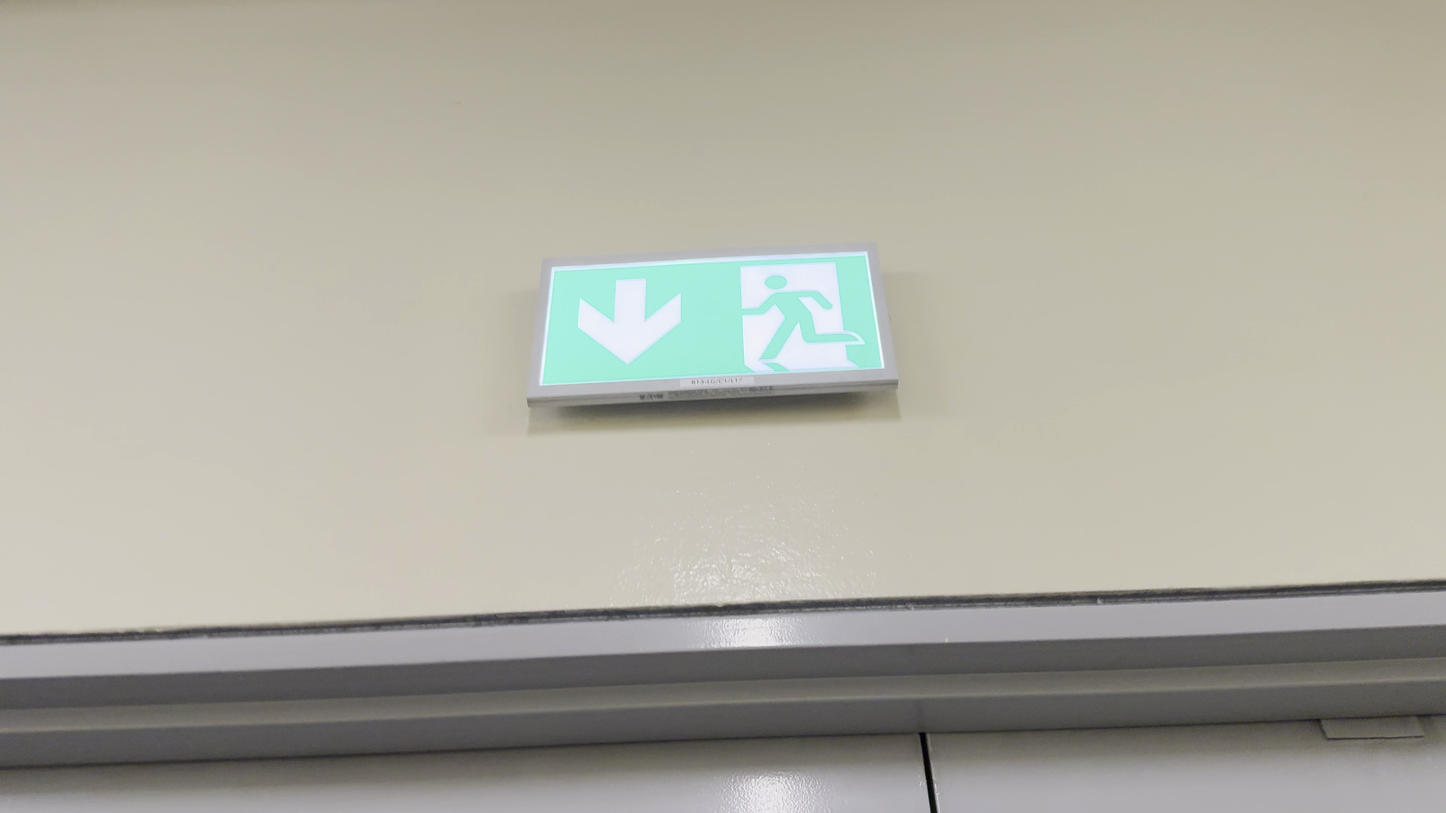emergency_exit: (525, 242, 900, 407)
